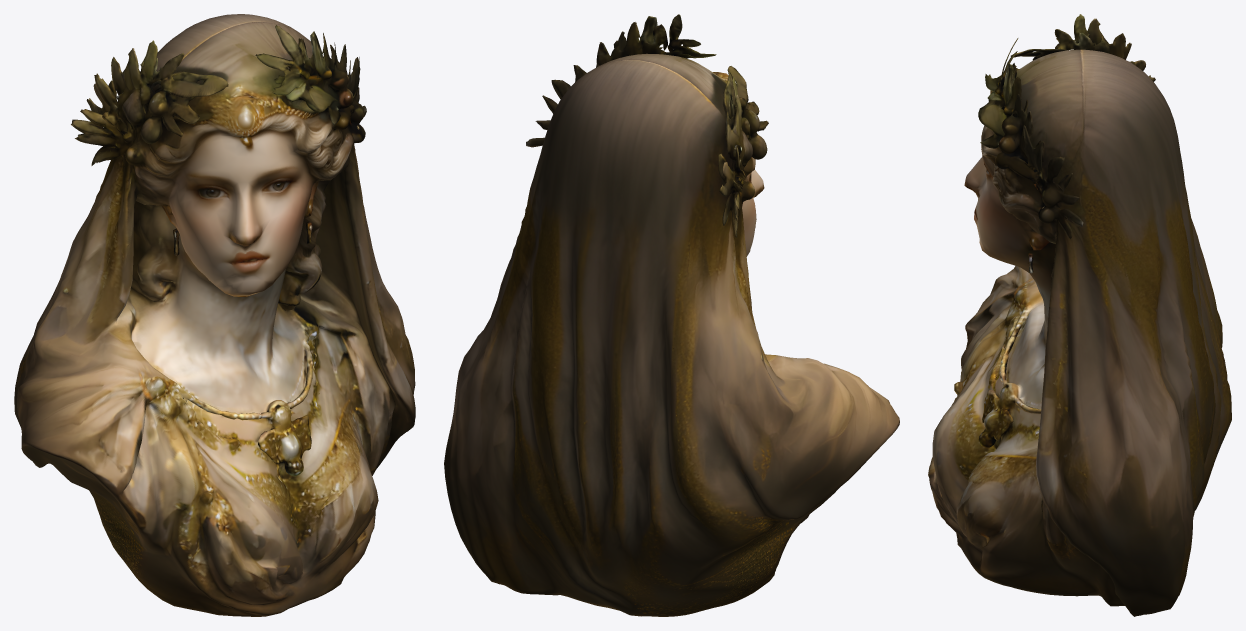
The model's file is base_basic_pbr.glb.
The picture shows the model from 3 angles, left to right: view 1: azimuth 30°, elevation 25°; view 2: azimuth 150°, elevation 25°; view 3: azimuth 270°, elevation 25°; orthographic projection. The views are drawn at different scales.
Visible parts, largest first — view 1: model; view 2: model; view 3: model.
Boxes of the visible parts, x1,y1,x2,y2 form: model: (14,14,415,616); model: (444,14,899,616); model: (928,14,1231,616).
Bounding box in the file's own units: 1.44 × 1.87 × 0.9882.
1 material, 1 textured.
